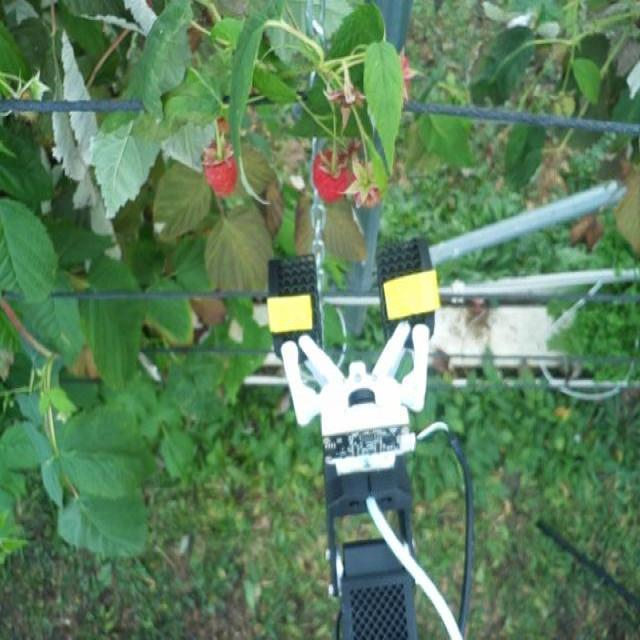Riped berries: (199, 136, 243, 195), (310, 144, 354, 203)
